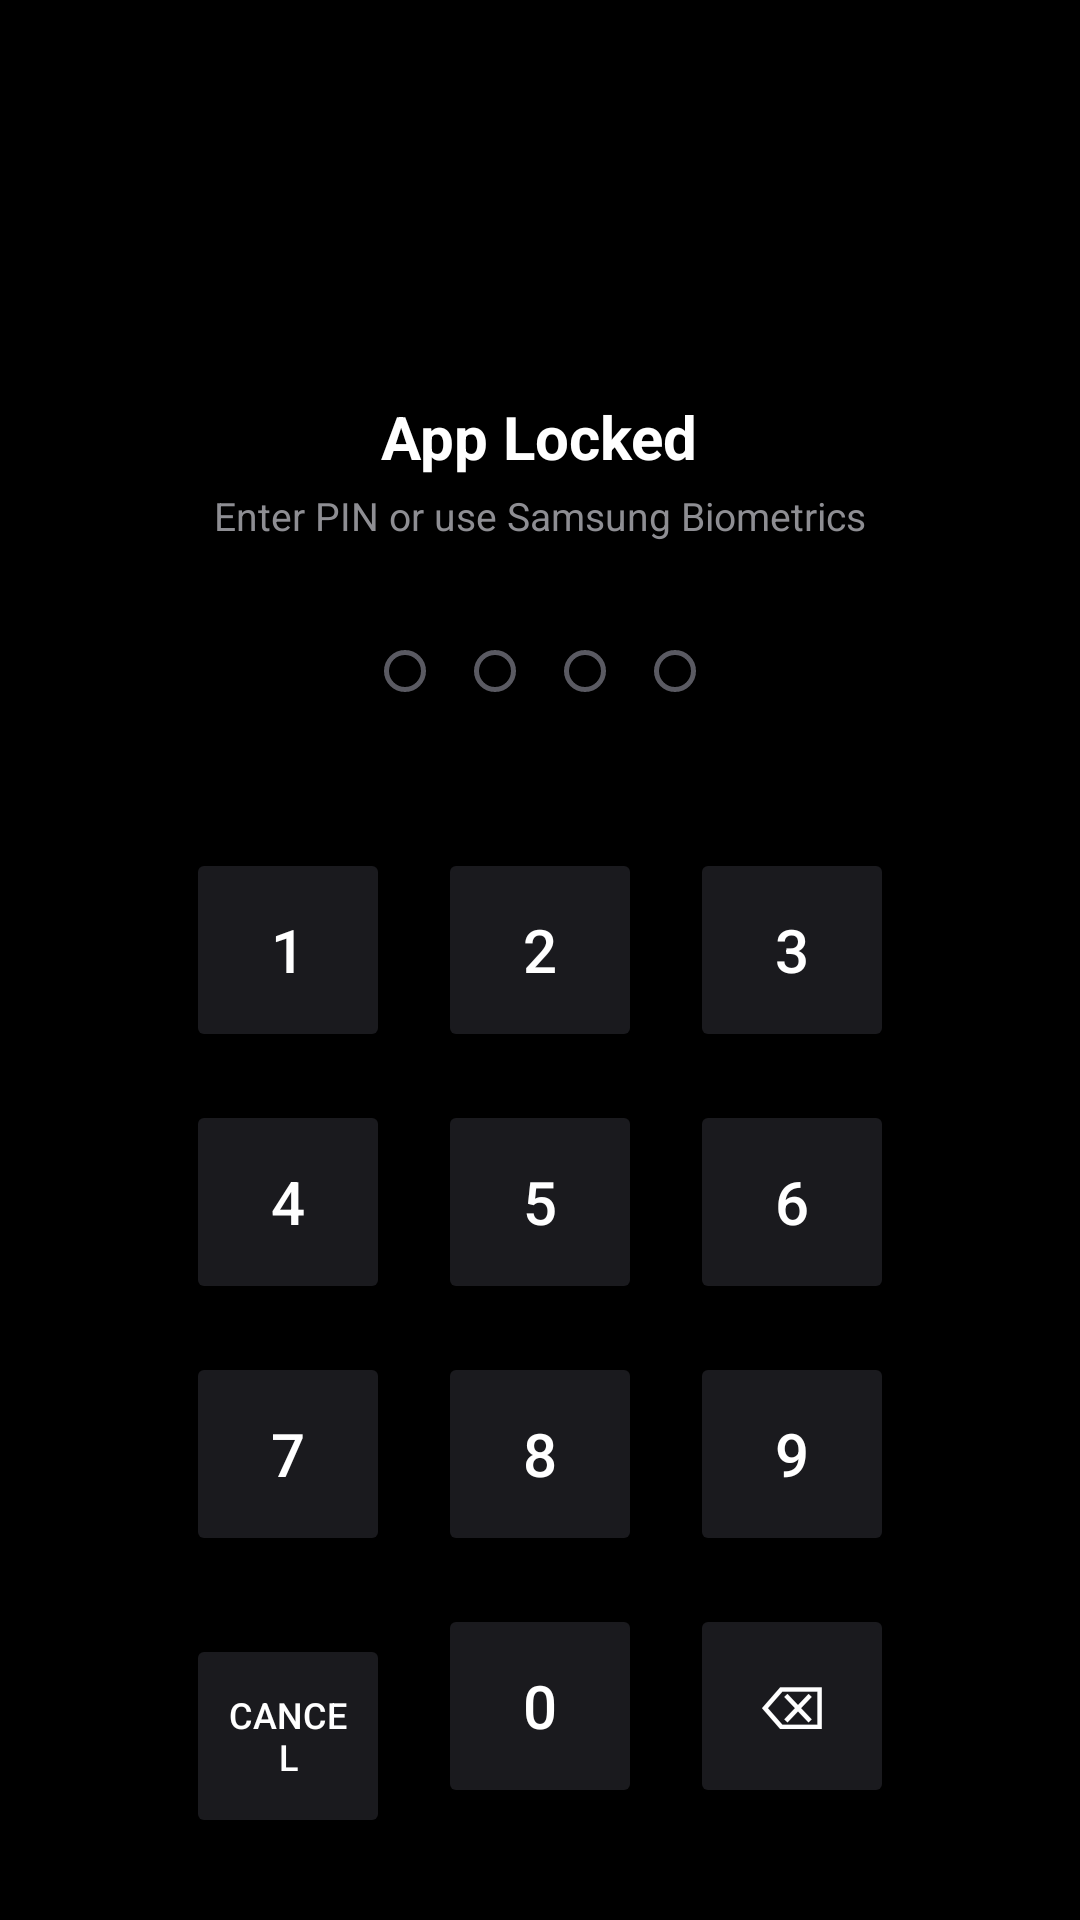

Named icons in this screenshot (1080px x 1920px) and their centers, point (x, y):
dot empty: point (405, 671), point (495, 671), point (585, 671), point (675, 671)
